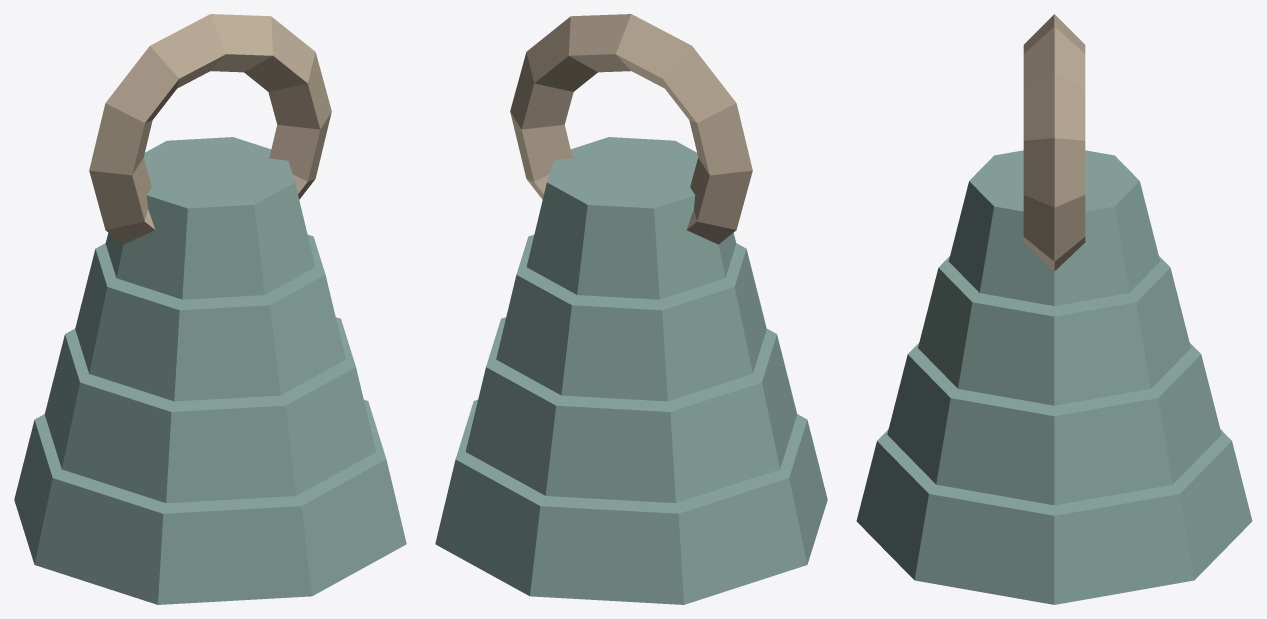
Rendered from map-exclusive-v3__tide_12.glb.
3 views of the same model, side by side, from view 1: azimuth 30°, elevation 25°; view 2: azimuth 150°, elevation 25°; view 3: azimuth 270°, elevation 25° (orthographic). The views are drawn at different scales.
Parts seen in each view (by area): view 1: tide_12; view 2: tide_12; view 3: tide_12.
Boxes of the visible parts, box(x1,y1,x2,y2) form: tide_12: box(14, 14, 406, 604); tide_12: box(435, 14, 827, 604); tide_12: box(856, 14, 1252, 604).
Bounding box in the file's own units: 1.16 × 1.6 × 1.16.
